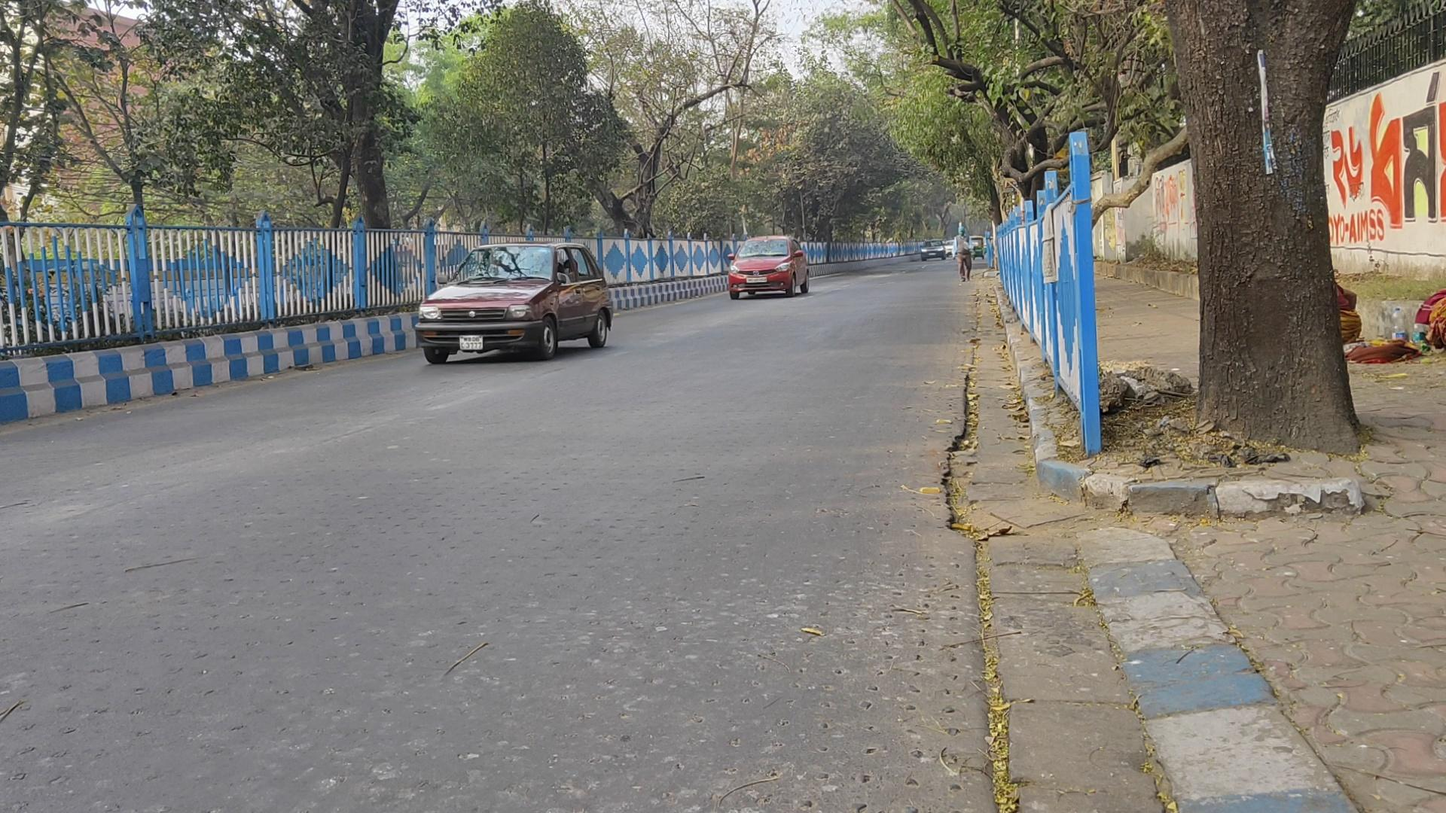Auto: (971, 233, 986, 260)
car: (414, 242, 613, 364), (728, 235, 810, 299), (920, 238, 947, 263)
